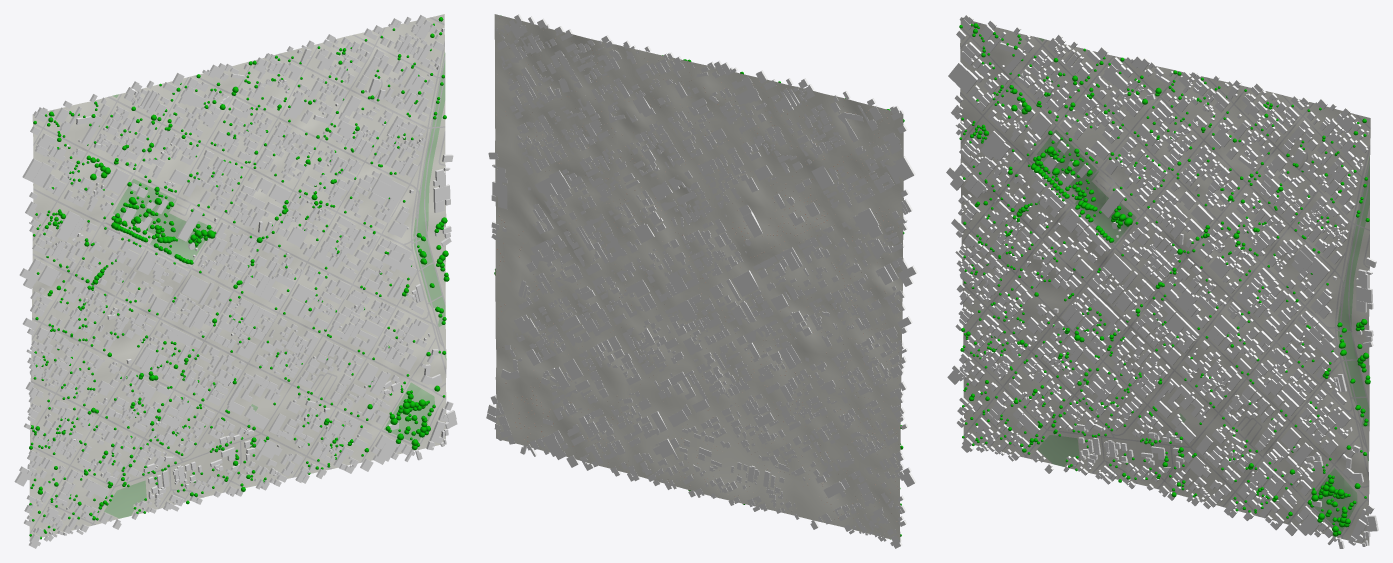
The model's file is mapa-topoexport.glb.
The picture shows the model from 3 angles, left to right: view 1: azimuth 30°, elevation 25°; view 2: azimuth 150°, elevation 25°; view 3: azimuth 330°, elevation 25°; orthographic projection.
Parts seen in each view (by area): view 1: TPX_Buildings, TPX_Ground, TPX_RoadsOutlines, TPX_GreenAreas; view 2: TPX_Ground, TPX_Buildings; view 3: TPX_Buildings, TPX_Ground, TPX_RoadsOutlines, TPX_GreenAreas.
Part boxes in pixels (x1,y1,x2,y2): TPX_Buildings: [14, 15, 457, 548]; TPX_Ground: [29, 14, 446, 539]; TPX_RoadsOutlines: [29, 17, 446, 533]; TPX_GreenAreas: [104, 52, 446, 518]; TPX_Ground: [494, 14, 903, 540]; TPX_Buildings: [486, 14, 917, 548]; TPX_Buildings: [946, 14, 1378, 548]; TPX_Ground: [960, 18, 1370, 545]; TPX_RoadsOutlines: [960, 23, 1370, 539]; TPX_GreenAreas: [1036, 37, 1369, 532].
Size of the model in its own units: 1047 by 1026 by 49.59.
